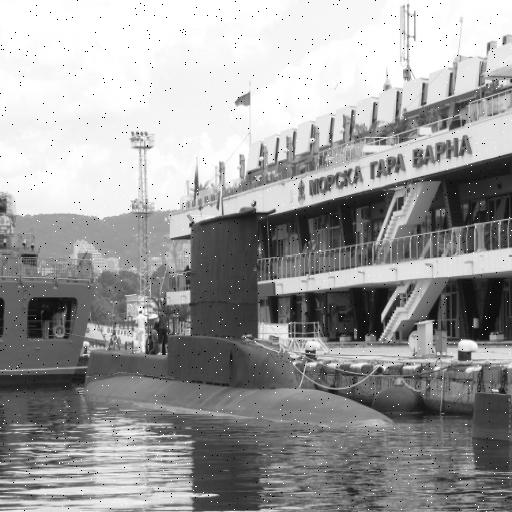submarine: (74, 213, 404, 431)
